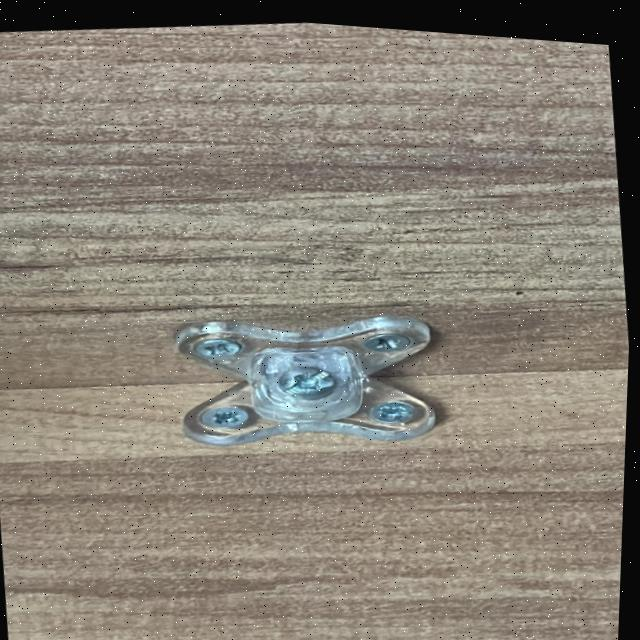Phillips: (273, 359, 339, 403)
Pozidriv: (191, 399, 252, 436), (368, 394, 419, 430), (359, 326, 417, 355), (193, 334, 245, 364)
